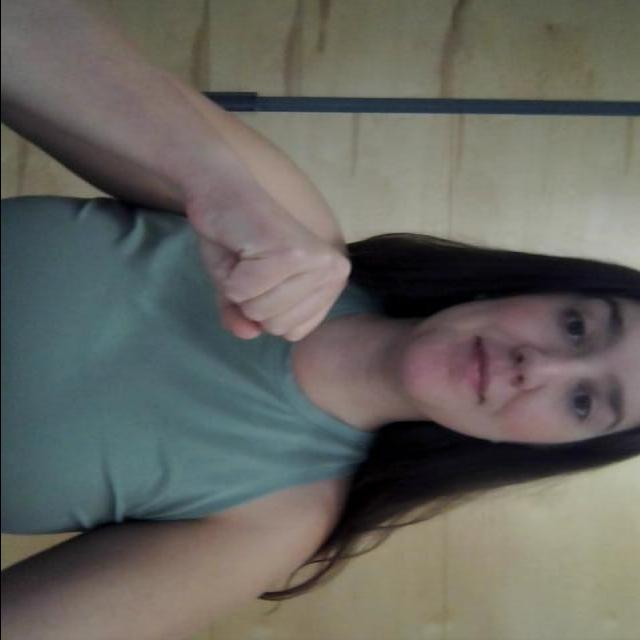Rock: (160, 148, 374, 367)
